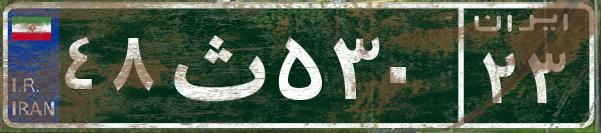0: (385, 28, 445, 110)
2: (475, 38, 525, 113)
3: (330, 28, 385, 110), (525, 38, 570, 115)
4: (57, 26, 110, 107)
5: (273, 28, 330, 110)
8: (110, 28, 158, 105)
ث: (158, 15, 273, 115)
